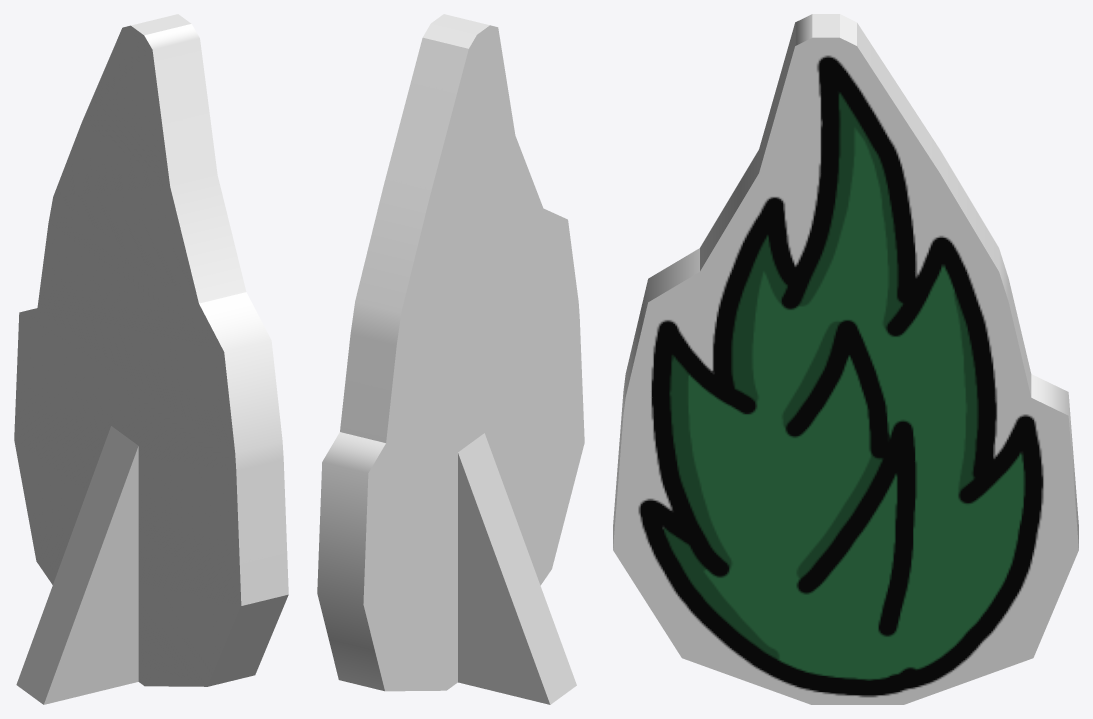
The model's file is bush 2.fbx.
The picture shows the model from 3 angles, left to right: view 1: azimuth 30°, elevation 25°; view 2: azimuth 150°, elevation 25°; view 3: azimuth 270°, elevation 25°; orthographic projection. The views are drawn at different scales.
Visible parts, largest first — view 1: pCube50, pCube51; view 2: pCube50, pCube51; view 3: pCube50.
Part boxes in pixels (box(x1,y1,x2,y2)): pCube50: box(14, 14, 288, 686); pCube51: box(16, 426, 138, 704); pCube50: box(317, 14, 584, 691); pCube51: box(458, 433, 576, 704); pCube50: box(613, 14, 1078, 704).
Bounding box in the file's own units: 1.5 × 6.55 × 4.15.
